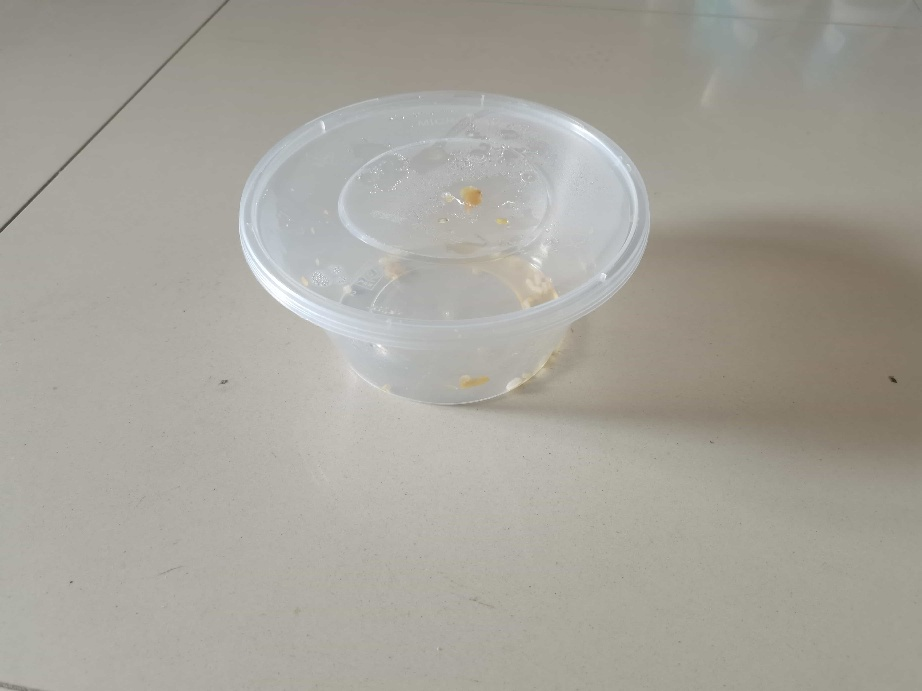fastfood box: (230, 82, 659, 411)
